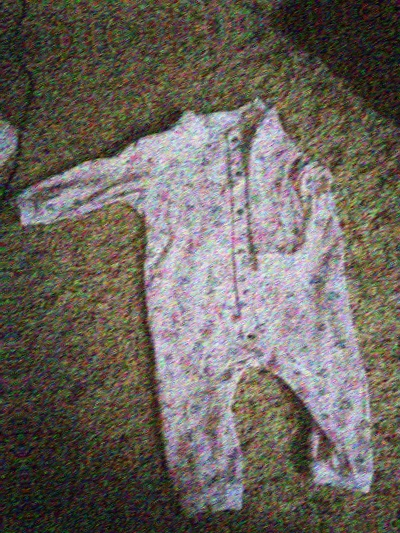Body: (3, 82, 400, 526), (0, 121, 16, 533)
